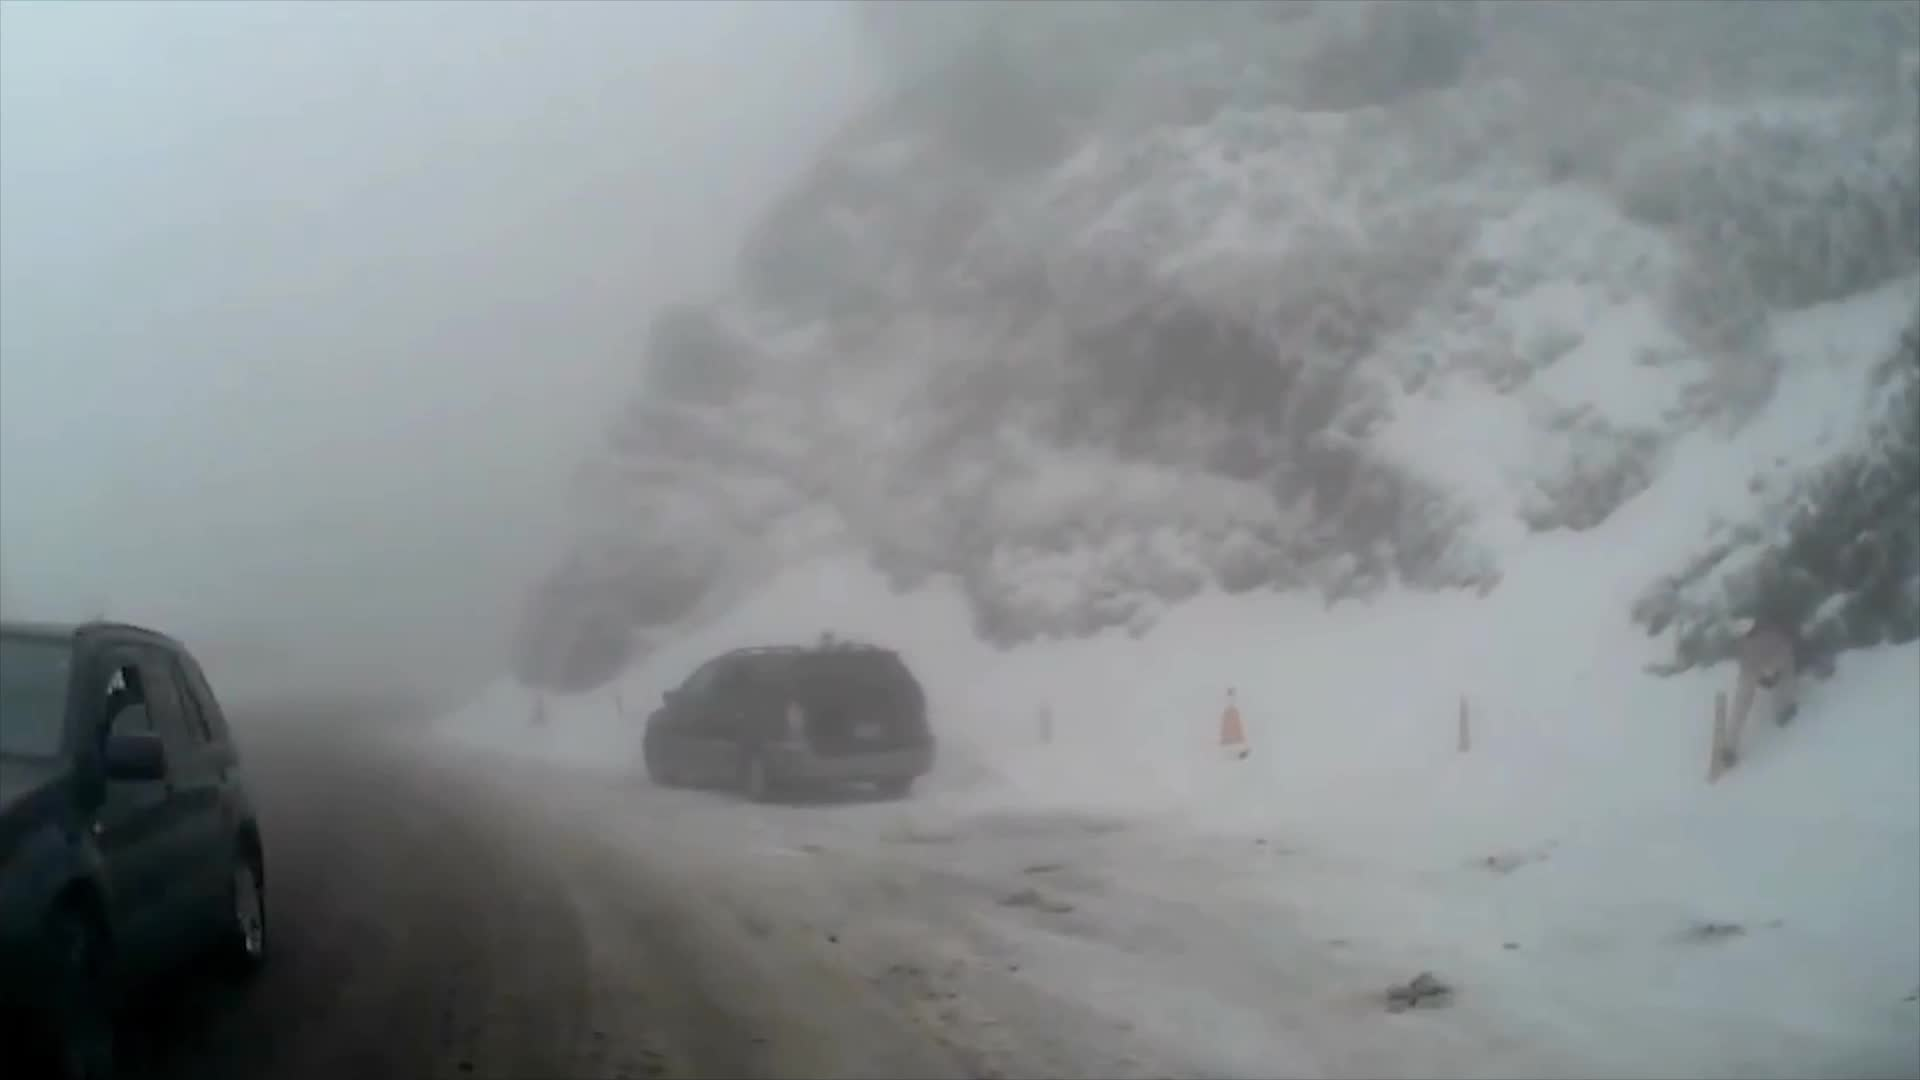vehicle: (0, 616, 272, 1080), (642, 644, 935, 800)
